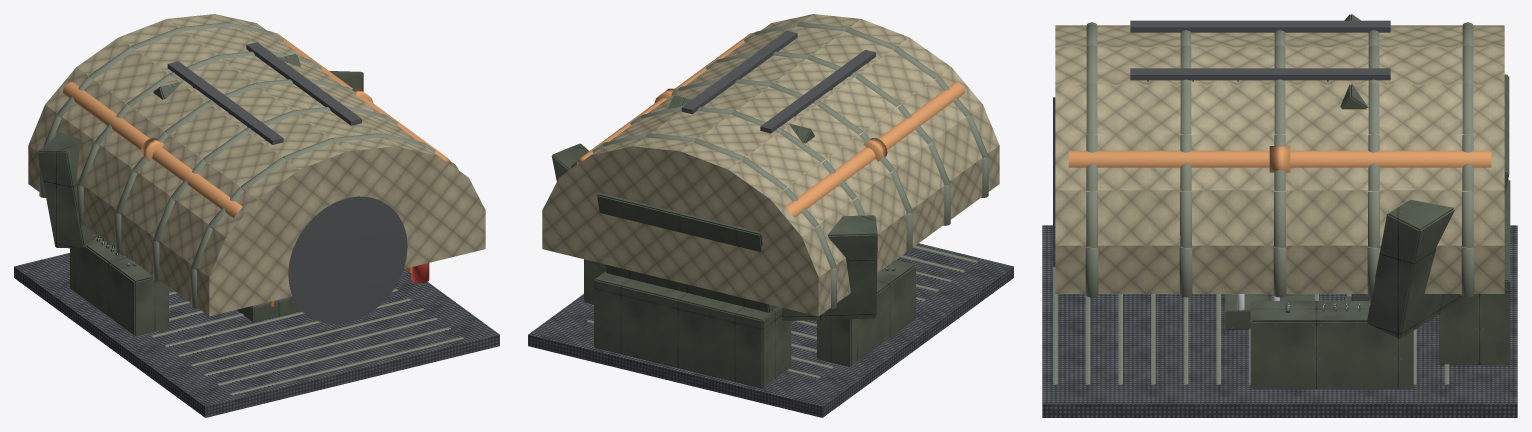
File: cockpit_cm32_missile.glb
The picture shows the model from 3 angles, left to right: view 1: azimuth 30°, elevation 25°; view 2: azimuth 150°, elevation 25°; view 3: azimuth 270°, elevation 25°; orthographic projection. The views are drawn at different scales.
Visible parts, largest first — view 1: CM32_Quilted_Interior_Walls, CM32_Floor_Deck, CM32_PressureHull_Ribs, Rear_PressureHatch_Frame, CM32_Console_Cabinets, CM32_Overhead_Ducts_Cables, CM32_Light_Cages, Seat_Armored_Frame; view 2: CM32_Quilted_Interior_Walls, CM32_Console_Cabinets, CM32_Floor_Deck, CM32_PressureHull_Ribs, CM32_Overhead_Ducts_Cables, CM32_Light_Cages; view 3: CM32_Quilted_Interior_Walls, CM32_Floor_Deck, CM32_Console_Cabinets, CM32_PressureHull_Ribs, CM32_Overhead_Ducts_Cables, CM32_Light_Cages, Seat_Armored_Frame, Rear_PressureHatch_Frame.
Boxes of the visible parts, x1,y1,x2,y2 form: CM32_Quilted_Interior_Walls: (28,14,485,316); CM32_Floor_Deck: (14,253,499,417); CM32_PressureHull_Ribs: (39,22,463,395); Rear_PressureHatch_Frame: (288,196,407,324); CM32_Console_Cabinets: (37,53,363,336); CM32_Overhead_Ducts_Cables: (63,32,450,217); CM32_Light_Cages: (167,42,361,144); Seat_Armored_Frame: (237,297,300,322); CM32_Quilted_Interior_Walls: (542,14,999,316); CM32_Console_Cabinets: (551,95,915,388); CM32_Floor_Deck: (528,243,1013,417); CM32_PressureHull_Ribs: (569,22,988,378); CM32_Overhead_Ducts_Cables: (577,32,964,217); CM32_Light_Cages: (681,30,875,133); CM32_Quilted_Interior_Walls: (1055,25,1504,293); CM32_Floor_Deck: (1042,225,1517,417); CM32_Console_Cabinets: (1250,14,1510,388); CM32_PressureHull_Ribs: (1053,22,1475,384); CM32_Overhead_Ducts_Cables: (1068,146,1491,172); CM32_Light_Cages: (1130,20,1390,81); Seat_Armored_Frame: (1225,294,1313,329); Rear_PressureHatch_Frame: (1053,97,1055,266).
Bounding box in the file's own units: 3.57 × 2.4 × 3.64.
29 materials, 13 textured.
